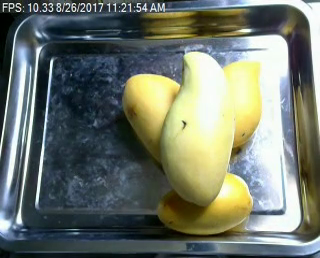Mango: (160, 50, 230, 206), (121, 73, 192, 163), (156, 172, 253, 235), (209, 59, 261, 147)
